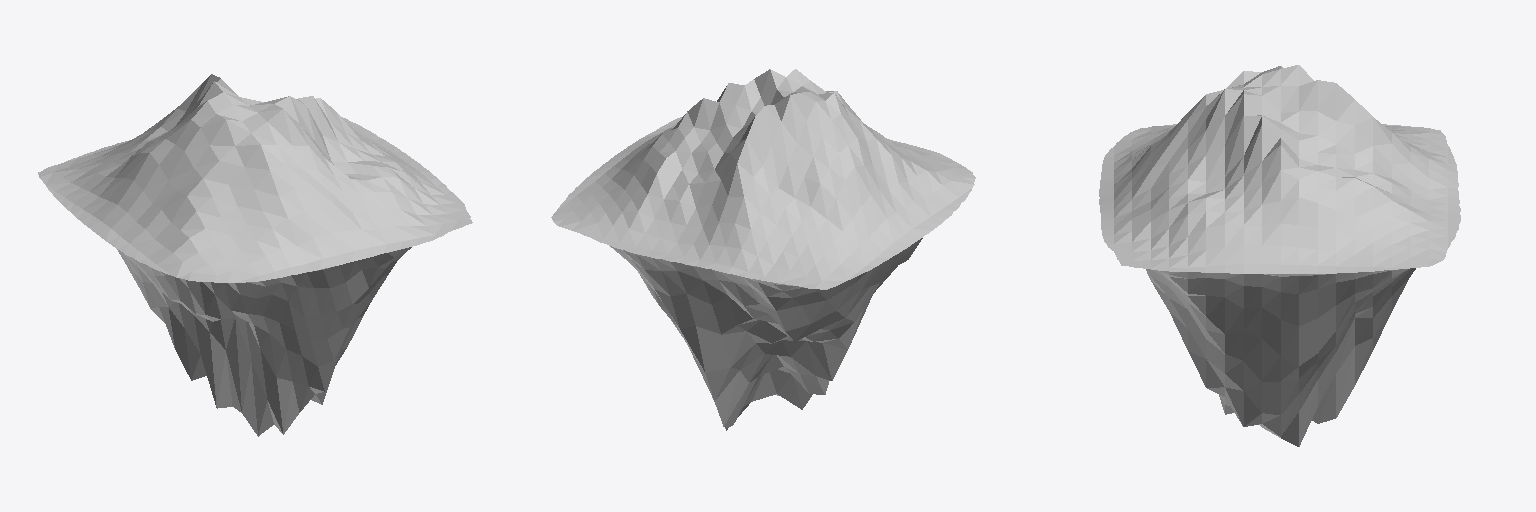
Rendered from island1.obj.
3 renders of one model, left to right at view 1: azimuth 30°, elevation 25°; view 2: azimuth 150°, elevation 25°; view 3: azimuth 270°, elevation 25°, orthographic.
Visible parts, largest first — view 1: island1; view 2: island1; view 3: island1.
Boxes of the visible parts, box(x1,y1,x2,y2) form: island1: box(38, 74, 472, 436); island1: box(551, 69, 975, 430); island1: box(1099, 65, 1460, 446).
Size of the model in its own units: 58.75 by 62.68 by 58.38.